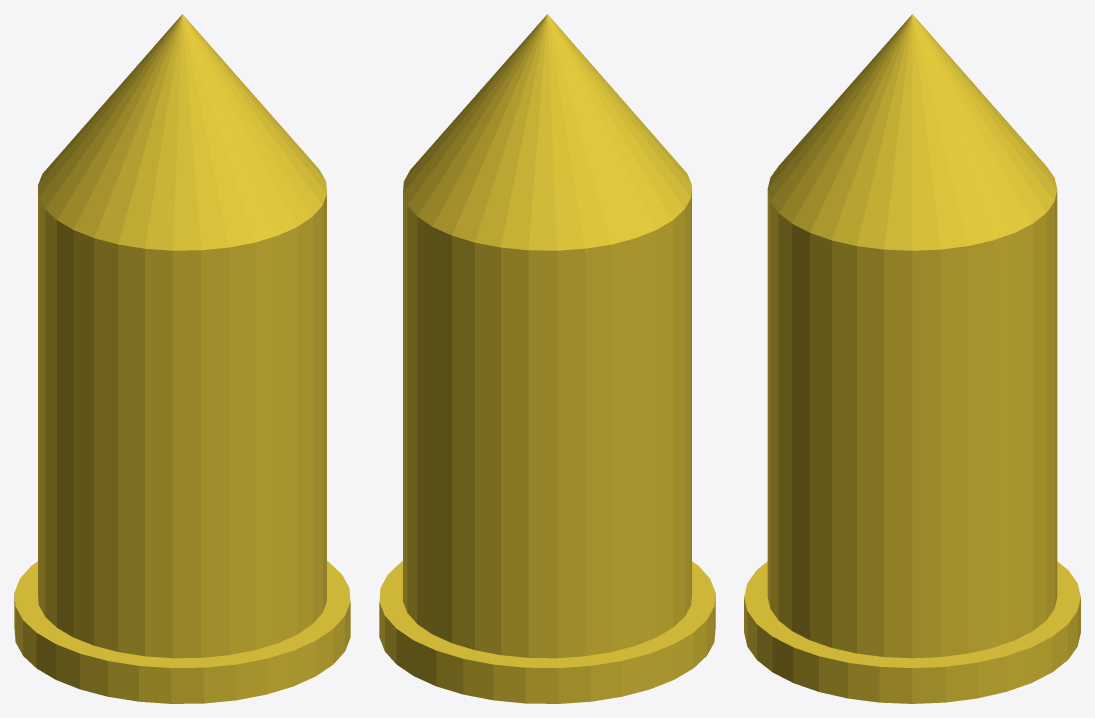
Rendered from bullet.glb.
3 renders of one model, left to right at view 1: azimuth 30°, elevation 25°; view 2: azimuth 150°, elevation 25°; view 3: azimuth 270°, elevation 25°, orthographic.
Parts seen in each view (by area): view 1: Cone; view 2: Cone; view 3: Cone.
Boxes of the visible parts, x1,y1,x2,y2 form: Cone: (14,14,350,703); Cone: (379,14,715,703); Cone: (744,14,1080,703).
Bounding box in the file's own units: 0.2644 × 0.5362 × 0.2644.
